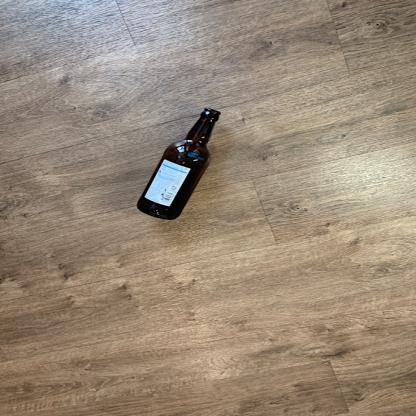trash: (134, 107, 220, 221)
